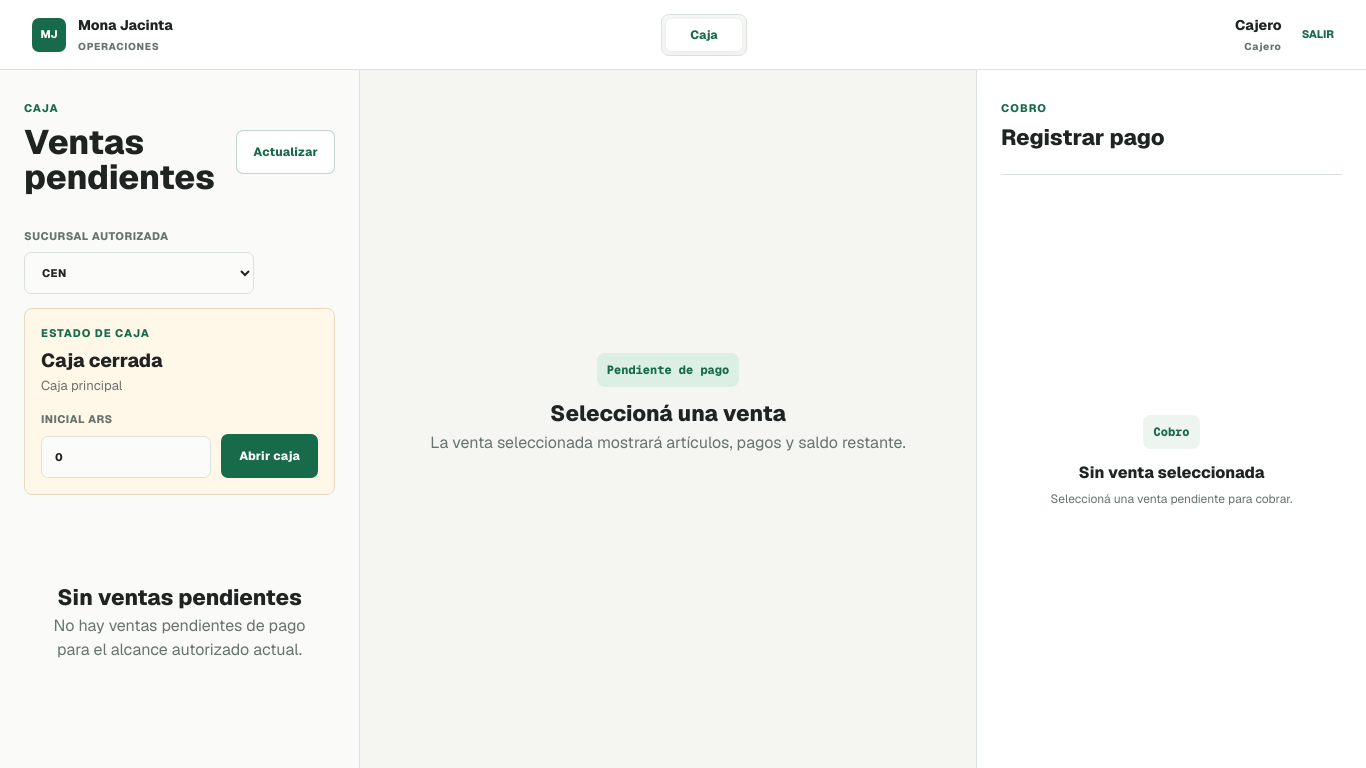
Scenario: cash current-state answers never cross branches or overtake newer answers › R04 a late open answer of the previous branch never opens the selected branch
This screenshot has width=1366, height=768.
Expected: the text "Caja principal" is shown, [41,377,122,394]
Expected: the heading "Caja cerrada" is shown, [41,348,162,373]
Replace the text in the field labelled "Inicial ARS" with "1000" at x=126, y=457, box [41,436,211,478]
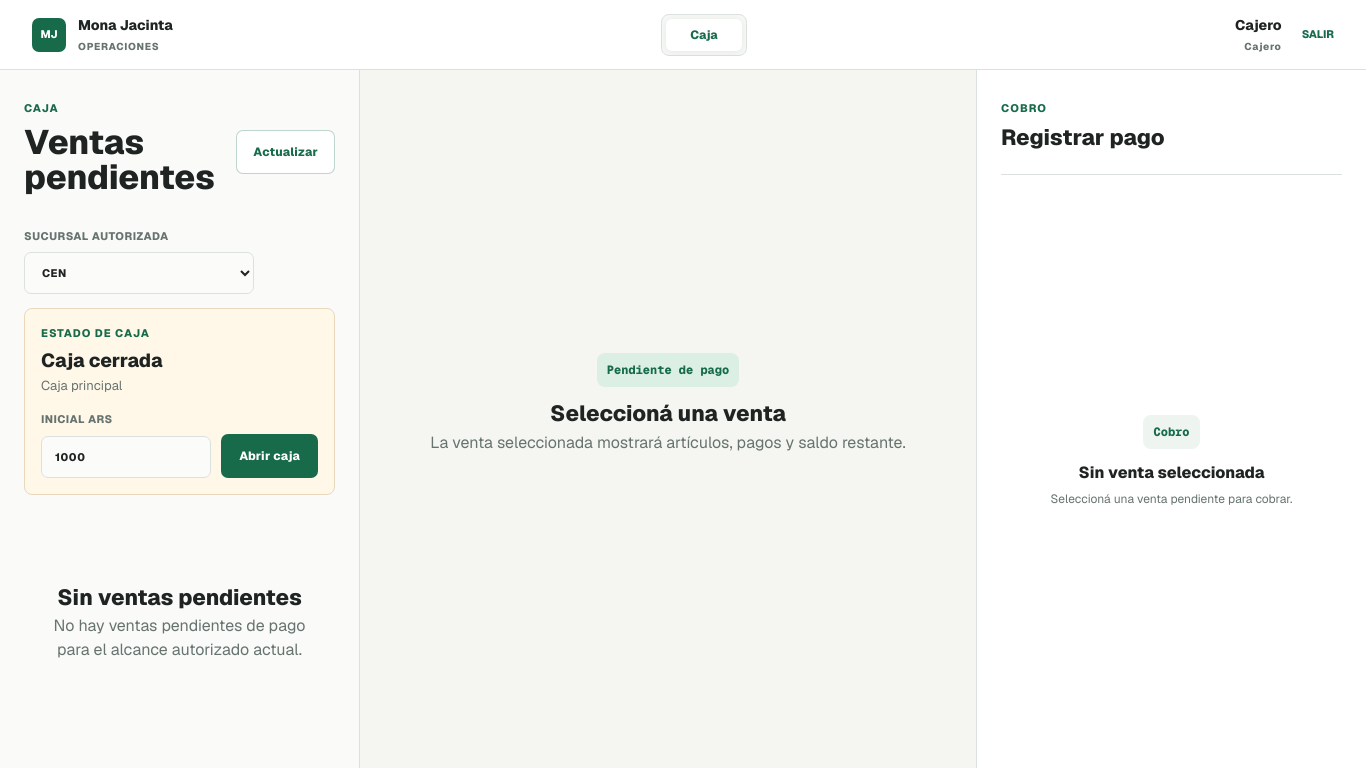
Click the button "Abrir caja" at x=270, y=456, box [221,434,318,478]
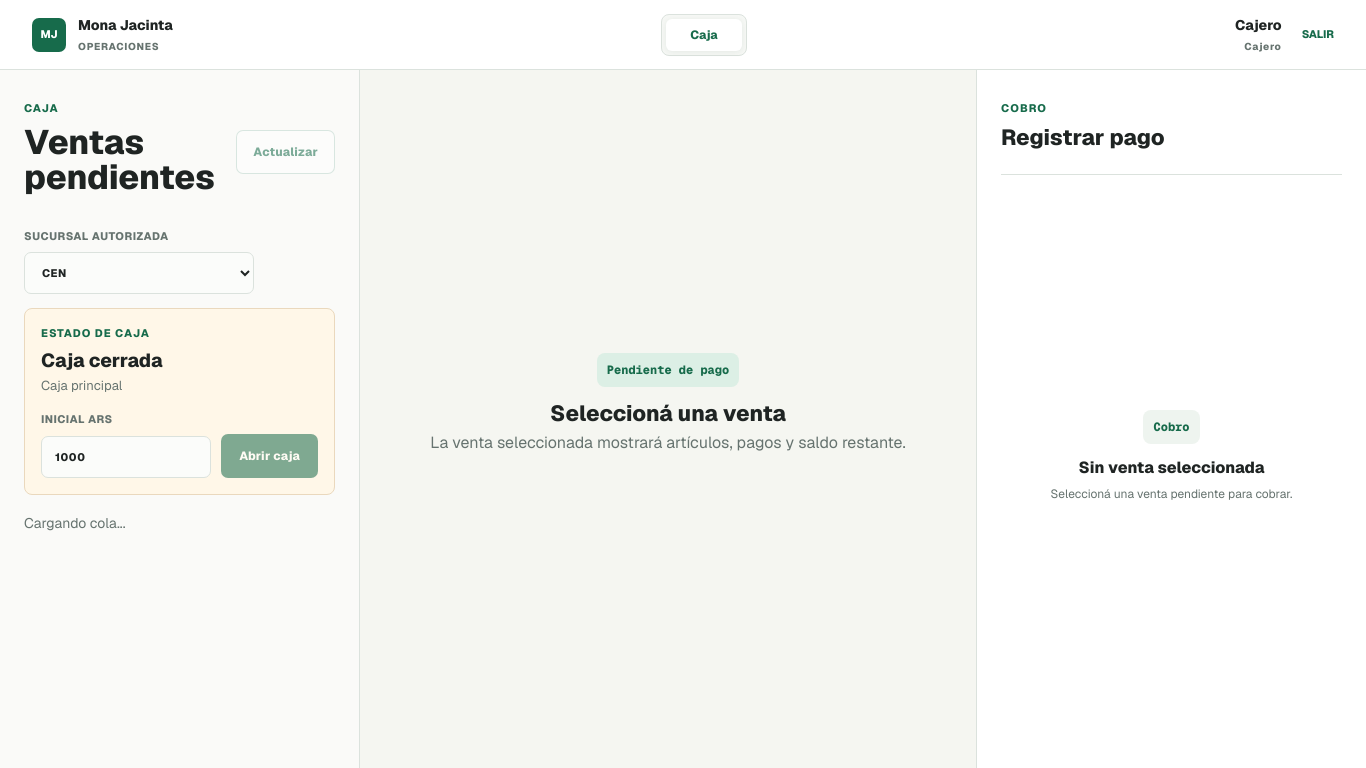
Select "DEP" in the dropdown labelled "Sucursal autorizada" at x=139, y=273, box [24,252,254,294]
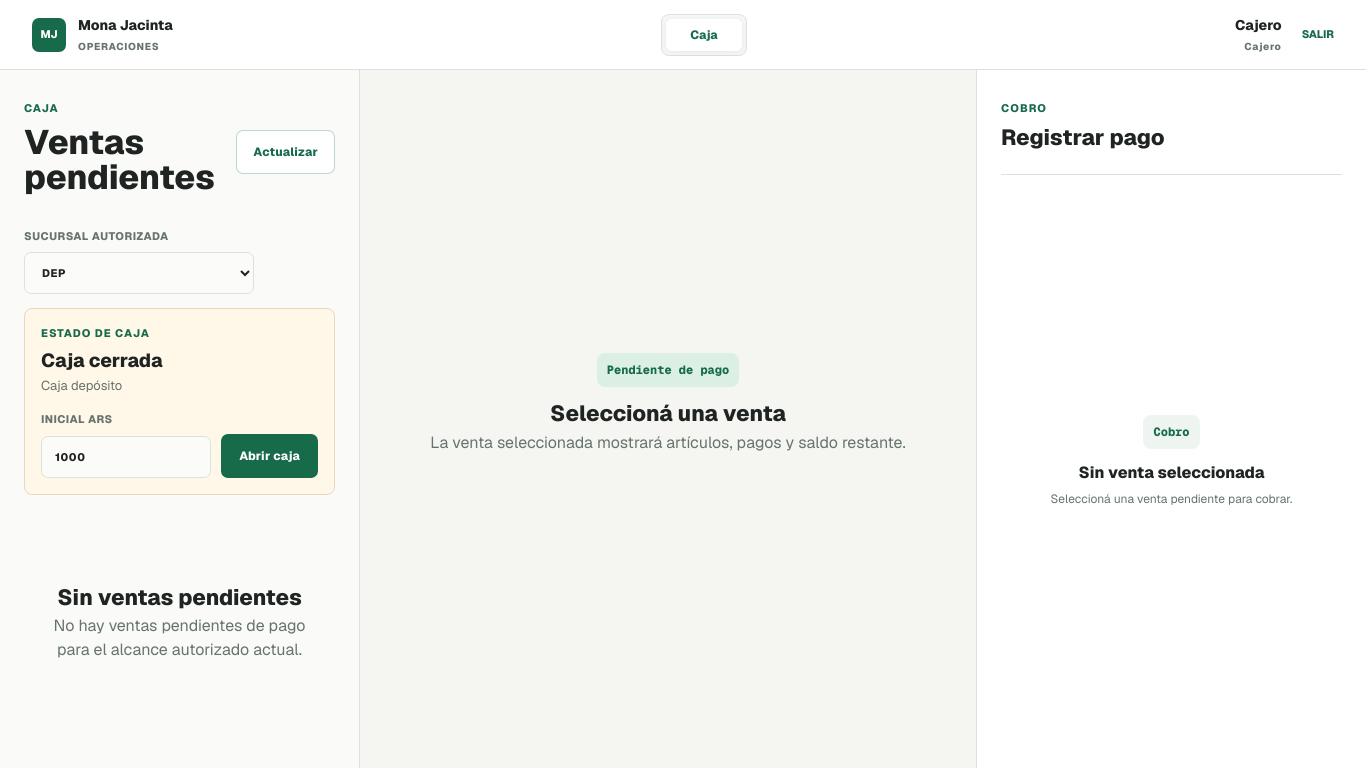
Expected: the heading "Caja cerrada" is shown, [41,348,162,373]
Expected: the button "Actualizar" is enabled, [236,130,335,174]
Expected: the text "Caja depósito" is shown, [41,377,122,394]
